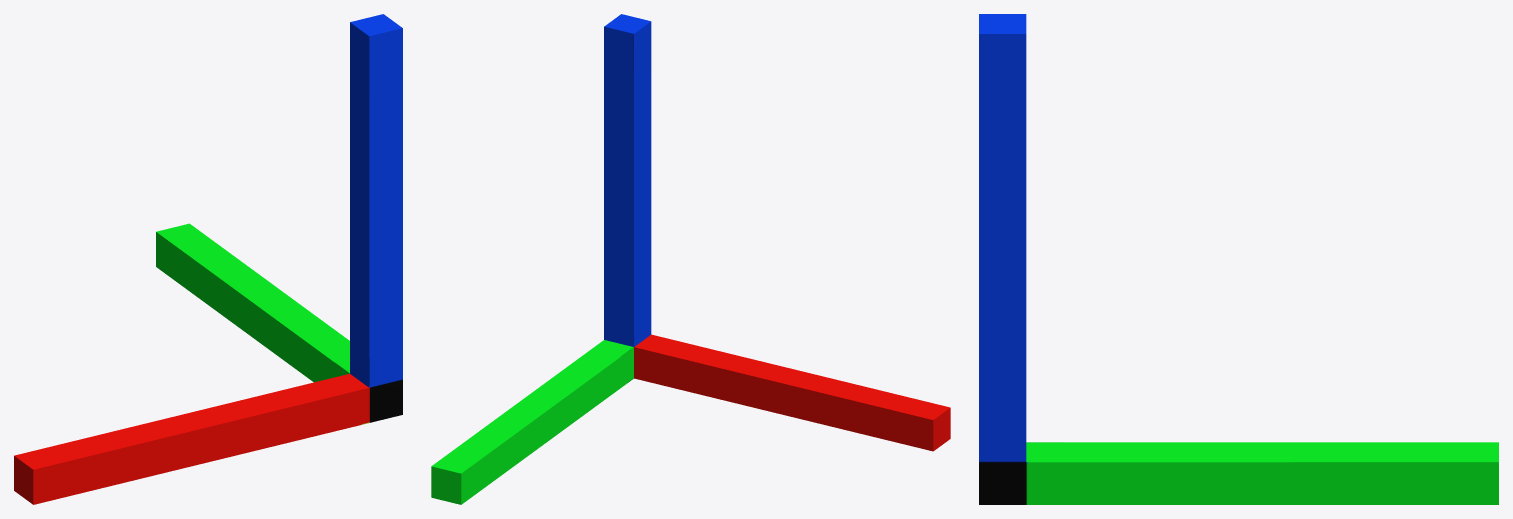
Rendered from point.fbx.
The picture shows the model from 3 angles, left to right: view 1: azimuth 30°, elevation 25°; view 2: azimuth 150°, elevation 25°; view 3: azimuth 270°, elevation 25°; orthographic projection. The views are drawn at different scales.
Visible parts, largest first — view 1: Cube; view 2: Cube; view 3: Cube.
Boxes of the visible parts, <box> form: Cube: <box>14,14,402,504</box>; Cube: <box>431,14,950,504</box>; Cube: <box>979,14,1498,504</box>.
Size of the model in its own units: 1.1 by 1.1 by 1.1.
